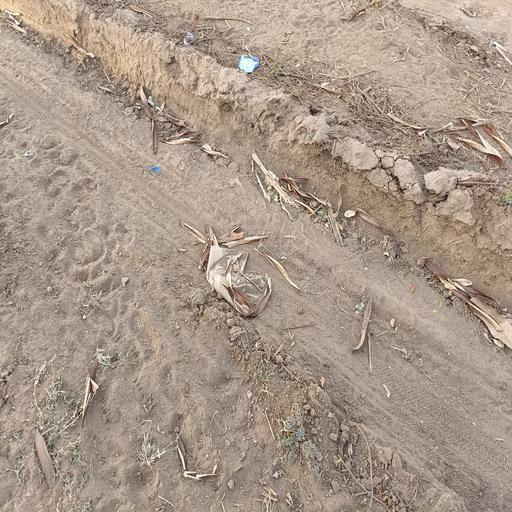vehicle_track: (0, 14, 512, 512)
